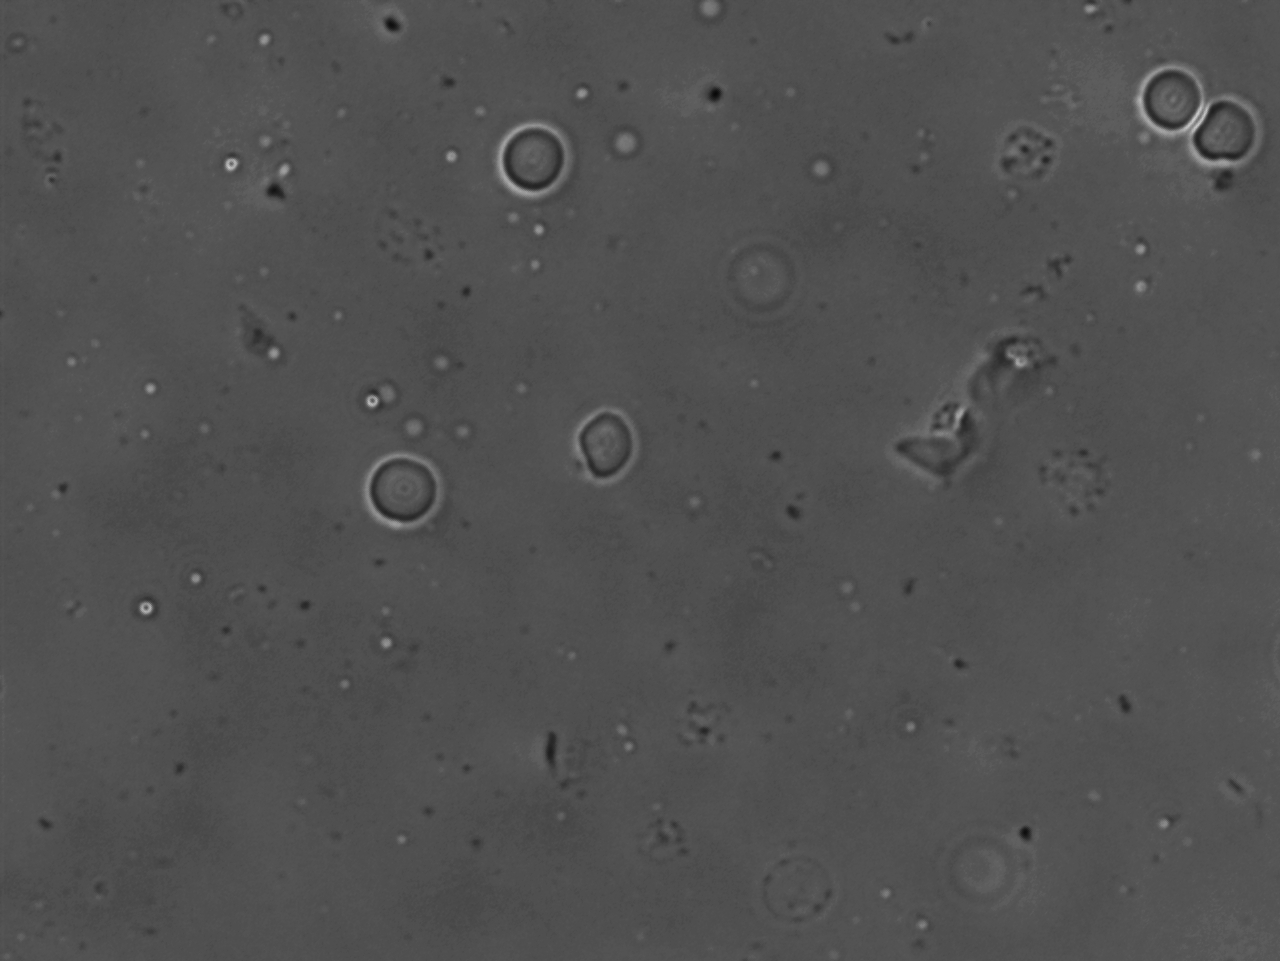depth:0: (352, 437, 466, 543), (487, 111, 592, 216), (1127, 59, 1225, 156), (563, 398, 658, 495), (1180, 88, 1268, 189)
